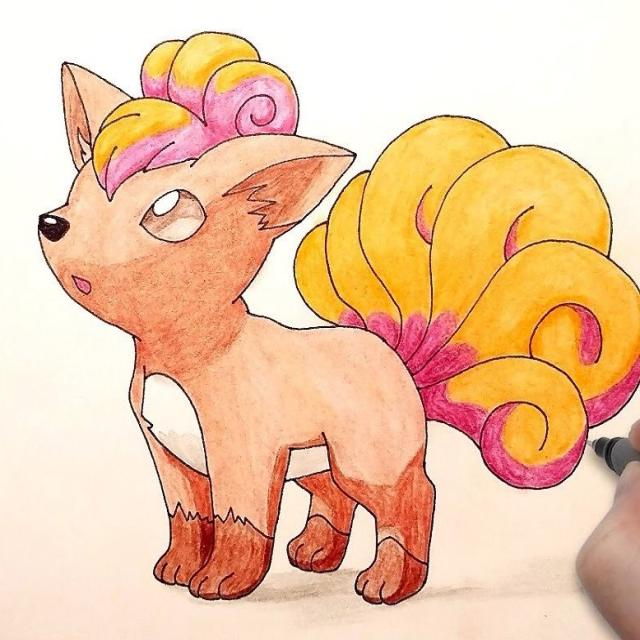Vulpix: (45, 62, 520, 609)
